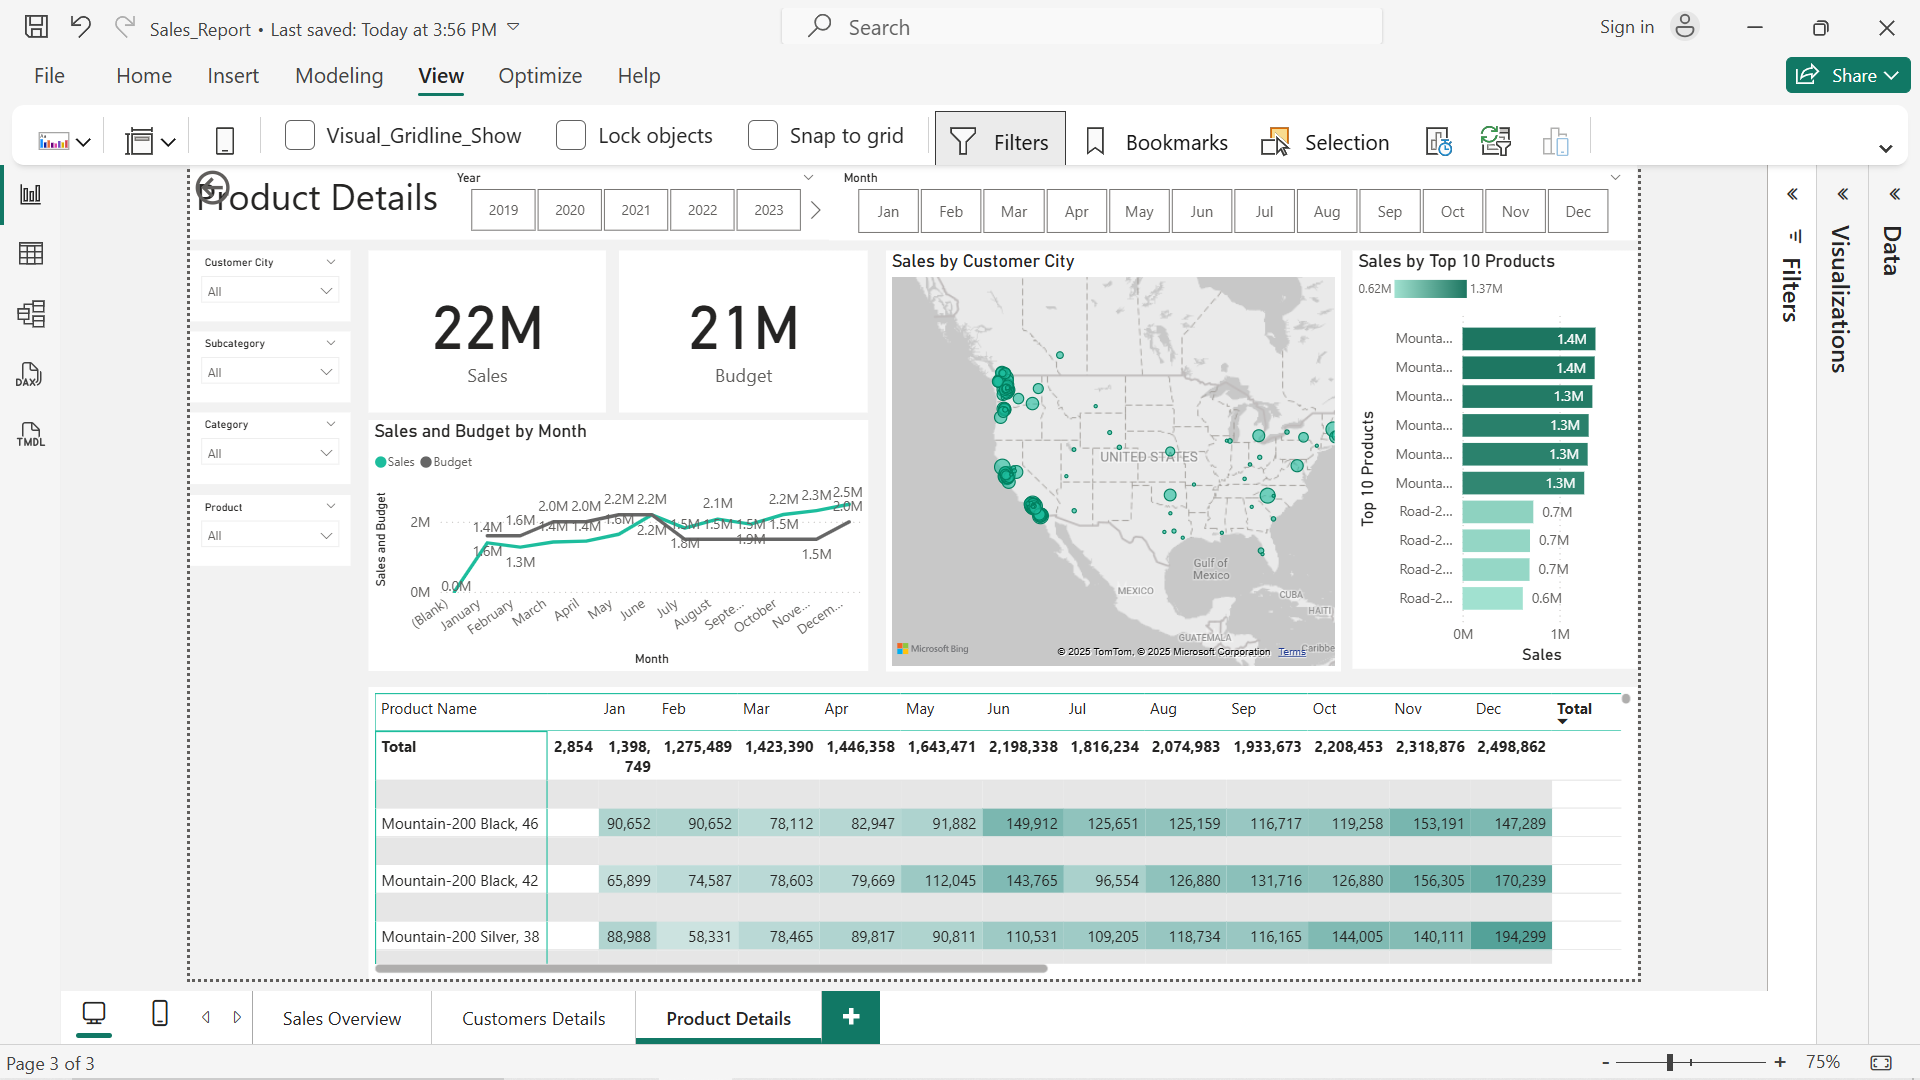

The dashboard page shown, as its layout file describes it:
{"tool":"powerbi","page":{"name":"Product Details","canvas":[1280,720],"ordinal":2},"visuals":[{"type":"textbox","box":[0,0,1280,65.7],"z":0},{"type":"slicer","fields":{"Values":["DIM_Customer.Customer City"]},"box":[0,75.5,141.8,62.7],"z":1000},{"type":"slicer","fields":{"Values":["DIM_Product.Product Subcategory Name"]},"box":[0,147.3,141.8,62.7],"z":2000},{"type":"slicer","fields":{"Values":["DIM_Product.Product Category Name"]},"box":[0,219.1,141.8,63.6],"z":3000},{"type":"slicer","fields":{"Values":["DIM_Product.Product Name"]},"box":[0,291.8,141.8,62.7],"z":4000},{"type":"slicer","fields":{"Values":["DIM_Calendar.Year"]},"box":[223.3,0,341.7,65],"z":5000},{"type":"slicer","fields":{"Values":["DIM_Calendar.MonthShort"]},"box":[565,0,713.3,66.7],"z":6000},{"type":"card","title":"KPI","fields":{"Values":["Key Measures.Sales"]},"box":[158.3,75,210,143.3],"z":7000},{"type":"actionButton","box":[0,0,100,40],"z":9000},{"type":"pivotTable","fields":{"Values":["Key Measures.Sales"],"Columns":["DIM_Calendar.MonthShort"],"Rows":["DIM_Product.Product Name"]},"box":[158.3,461.7,1121.7,258.3],"z":10000},{"type":"card","title":"KPI","fields":{"Values":["Key Measures.Budget Amount"]},"box":[380,75,220,143.3],"z":11000},{"type":"lineChart","fields":{"Category":["DIM_Calendar.Date.Variation.Date Hierarchy.Month"],"Y":["Sum(FACT_InternetSales.SalesAmount)","Sum(FACT_Budget.Budget)"]},"box":[158.3,225,441.7,221.7],"z":12000},{"type":"map","fields":{"Category":["DIM_Customer.Customer City"],"Size":["Key Measures.Sales"]},"box":[615,75,401.7,371.7],"z":13000},{"type":"barChart","fields":{"Y":["Key Measures.Sales"],"Category":["DIM_Product.Product Name"]},"box":[1028.3,75,251.7,370],"z":13001}]}

Visuals, with their boxes on the page's 1280x720 design canvas (x1, y1, x2, y2). These are canvas units, not pixel positions in the 1920x1080 screenshot, which may show the page scaled, cropped or inside an application window:
textbox: left=0, top=0, right=1280, bottom=66
slicer - DIM_Customer.Customer City: left=0, top=76, right=142, bottom=138
slicer - DIM_Product.Product Subcategory Name: left=0, top=147, right=142, bottom=210
slicer - DIM_Product.Product Category Name: left=0, top=219, right=142, bottom=283
slicer - DIM_Product.Product Name: left=0, top=292, right=142, bottom=354
slicer - DIM_Calendar.Year: left=223, top=0, right=565, bottom=65
slicer - DIM_Calendar.MonthShort: left=565, top=0, right=1278, bottom=67
"KPI" card: left=158, top=75, right=368, bottom=218
actionButton: left=0, top=0, right=100, bottom=40
pivotTable - Key Measures.Sales x DIM_Calendar.MonthShort: left=158, top=462, right=1280, bottom=720
"KPI" card: left=380, top=75, right=600, bottom=218
lineChart - DIM_Calendar.Date.Variation.Date Hierarchy.Month x Sum(FACT_InternetSales.SalesAmount): left=158, top=225, right=600, bottom=447
map - DIM_Customer.Customer City x Key Measures.Sales: left=615, top=75, right=1017, bottom=447
barChart - Key Measures.Sales x DIM_Product.Product Name: left=1028, top=75, right=1280, bottom=445
